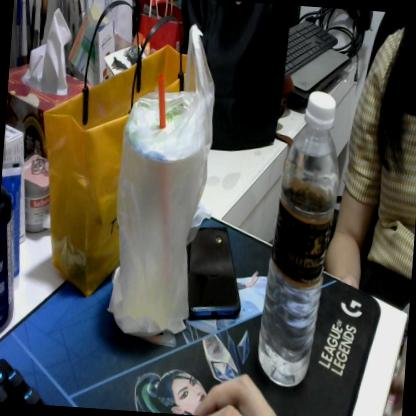plastic_bottles: (254, 87, 346, 390)
